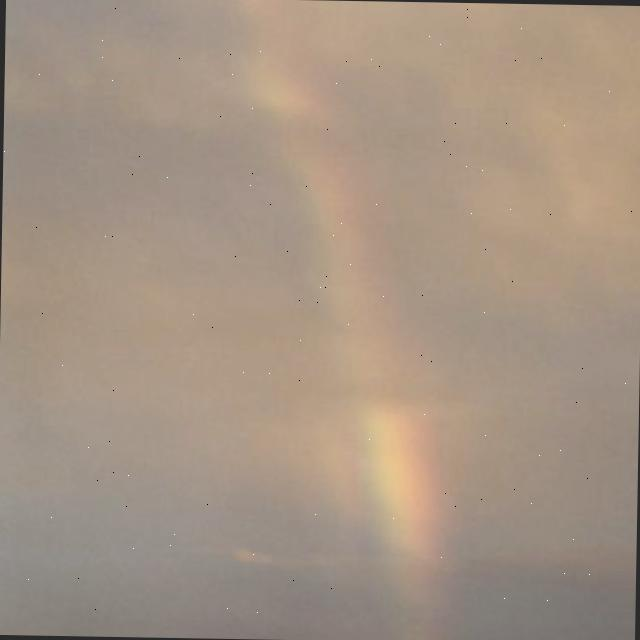As: (1, 2, 640, 611)
